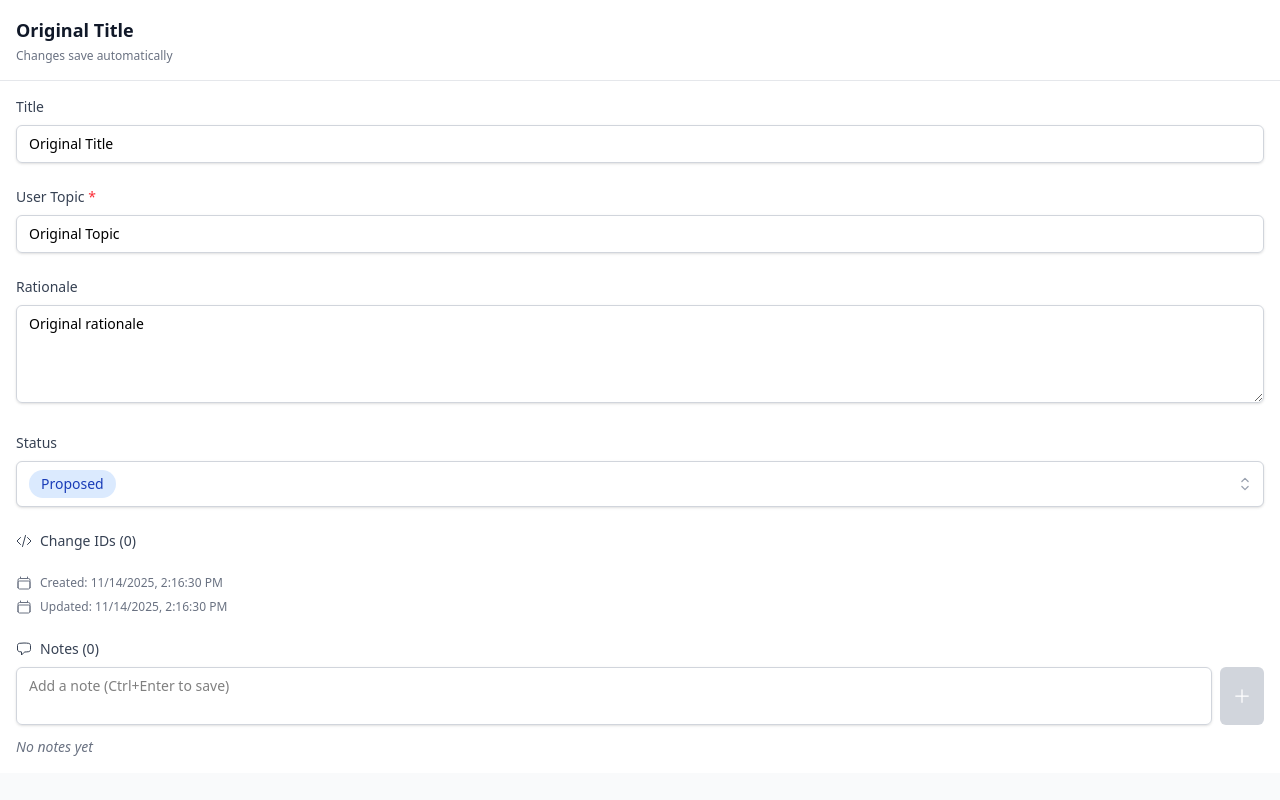
ThreadMetadataPanel › Auto-save functionality › auto-saves changes after typing
Note: Edit the title
Replace the text in the field labelled "Title" with "Auto-saved Title": (640, 144) [16,125,1264,163]
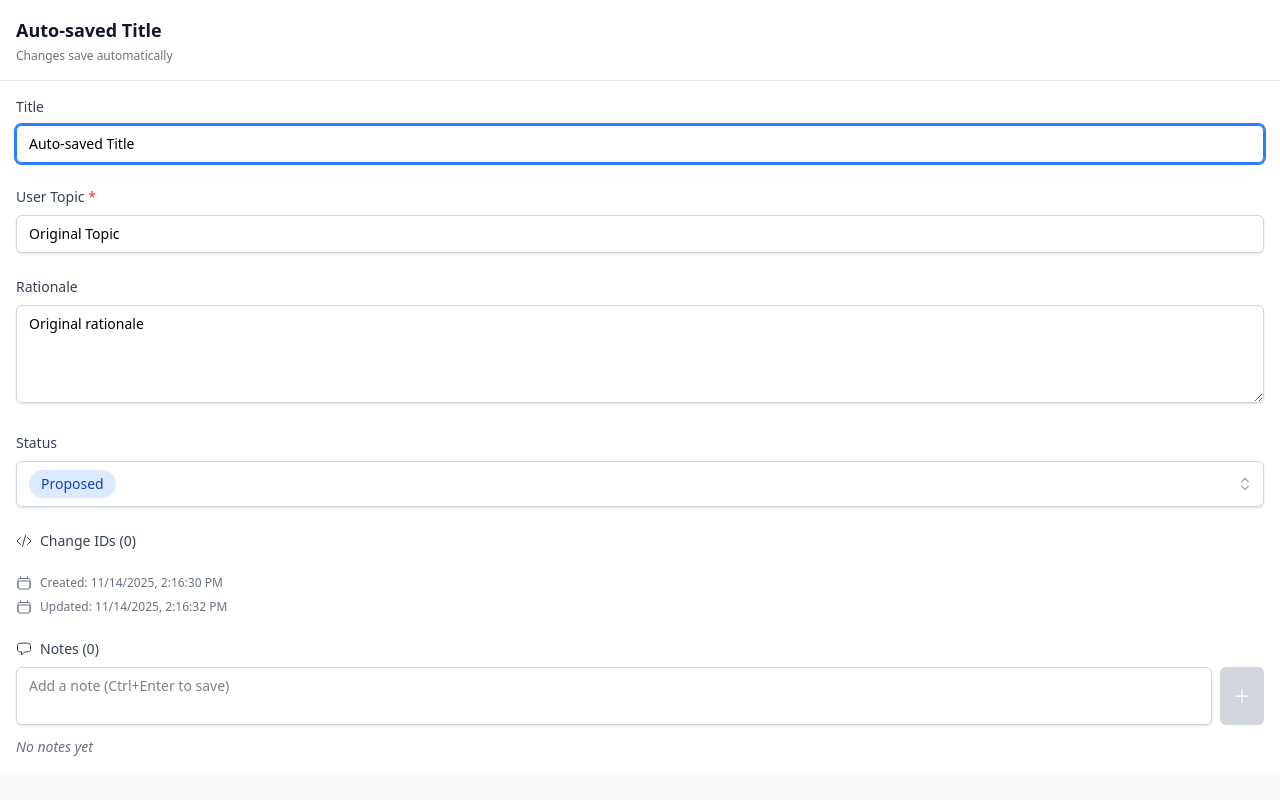
Expected: the heading "Auto-saved Title" is shown, [16,18,162,42]
